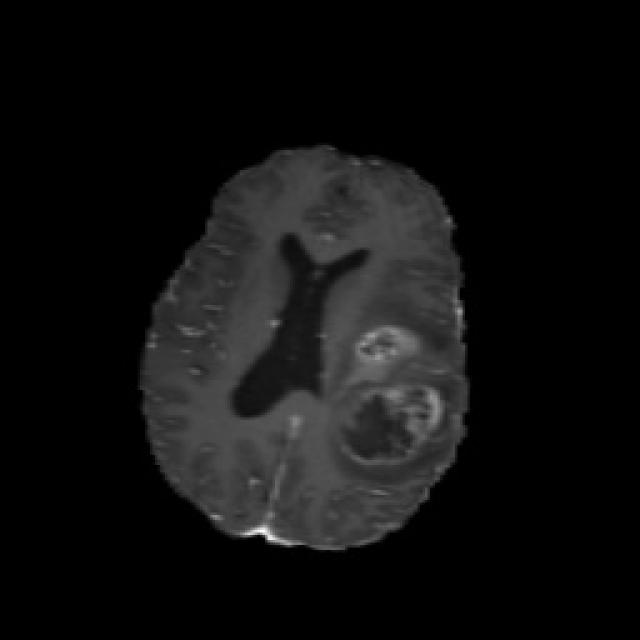negative: (337, 380, 445, 468), (355, 325, 413, 365)
